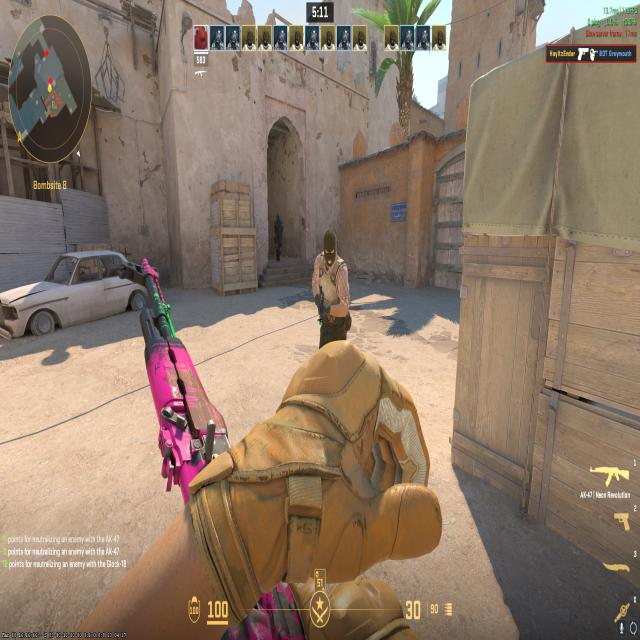ct: (271, 211, 285, 262)
t: (306, 230, 356, 346)
